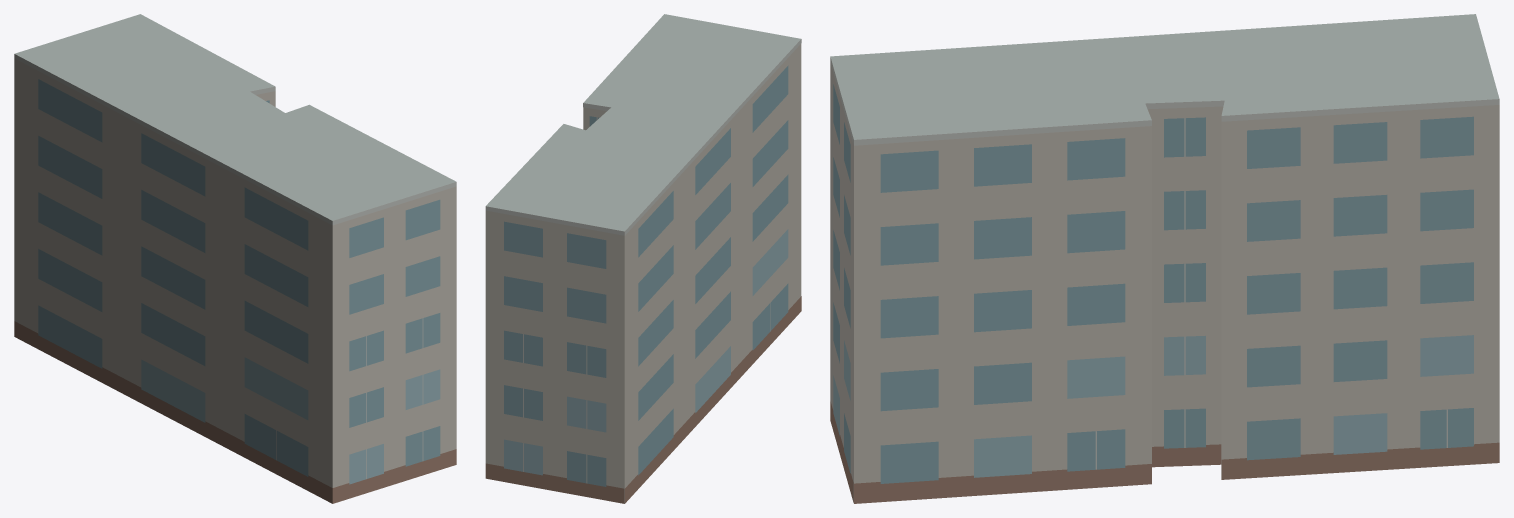
File: survey-upis-32954611.glb
3 renders of one model, left to right at view 1: azimuth 30°, elevation 25°; view 2: azimuth 150°, elevation 25°; view 3: azimuth 270°, elevation 25°, orthographic. The views are drawn at different scales.
Visible parts, largest first — view 1: survey-upis-32954611.tmp; view 2: survey-upis-32954611.tmp; view 3: survey-upis-32954611.tmp.
Boxes of the visible parts, left/top/right/bottom form: survey-upis-32954611.tmp: left=14, top=14, right=456, bottom=503; survey-upis-32954611.tmp: left=485, top=14, right=801, bottom=503; survey-upis-32954611.tmp: left=830, top=14, right=1499, bottom=503.
Bounding box in the file's own units: 11.37 × 15.3 × 25.51.
